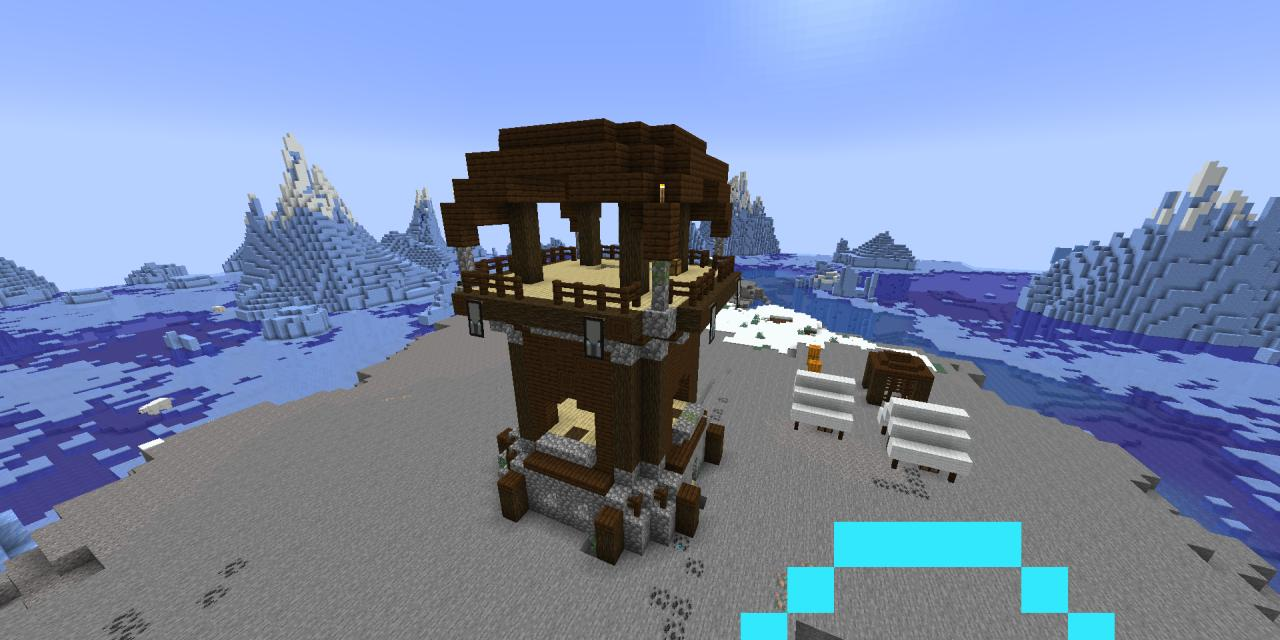pillager outpost: (430, 102, 753, 566)
